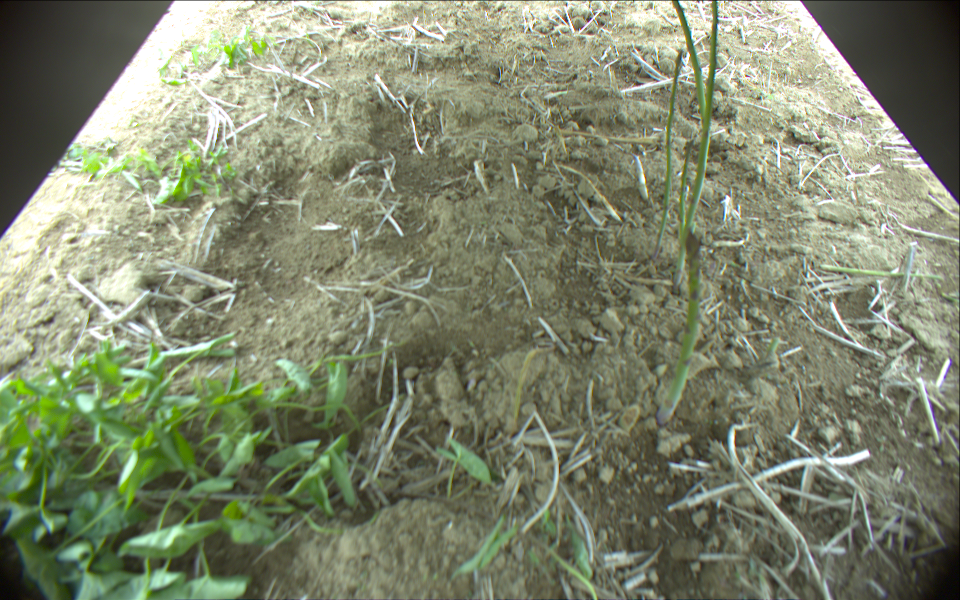aspa: (678, 1, 721, 254), (653, 229, 701, 429), (654, 52, 684, 258), (670, 1, 708, 126), (676, 137, 694, 290), (819, 263, 944, 282)
